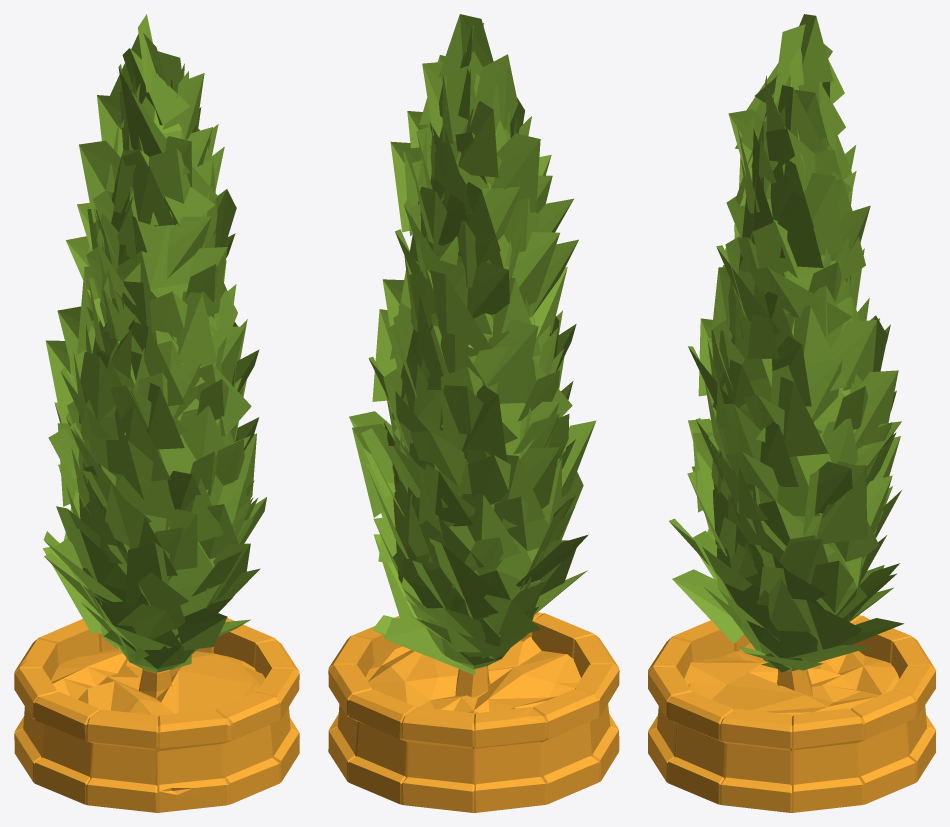
File: SM_City_Planter_Street_A_Filled.fbx
3 views of the same model, side by side, from view 1: azimuth 30°, elevation 25°; view 2: azimuth 150°, elevation 25°; view 3: azimuth 270°, elevation 25° (orthographic). The views are drawn at different scales.
Visible parts, largest first — view 1: SM_City_Planter_Street_A_Filled; view 2: SM_City_Planter_Street_A_Filled; view 3: SM_City_Planter_Street_A_Filled.
Boxes of the visible parts, x1,y1,x2,y2 form: SM_City_Planter_Street_A_Filled: (14,14,299,812); SM_City_Planter_Street_A_Filled: (328,14,619,812); SM_City_Planter_Street_A_Filled: (648,14,935,812).
Size of the model in its own units: 1.59 by 4.49 by 1.59.
